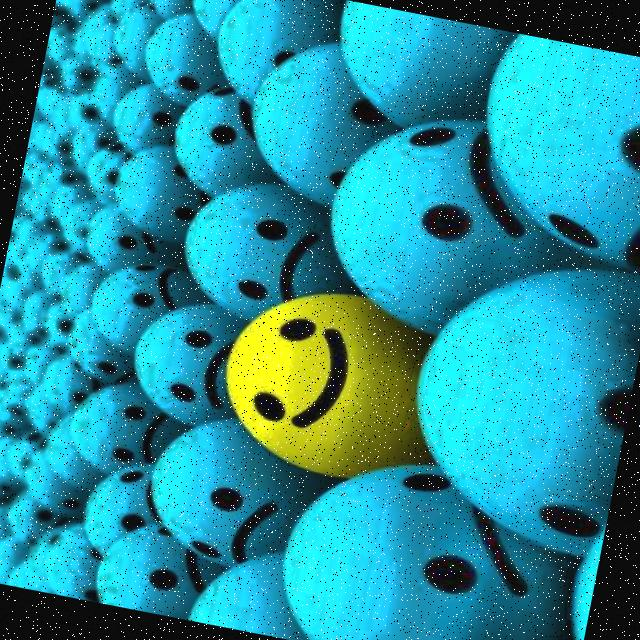happy: (209, 267, 416, 477)
sad: (311, 421, 562, 640), (331, 104, 550, 294), (172, 171, 364, 333), (141, 307, 271, 441), (158, 465, 286, 574), (86, 396, 201, 502), (182, 65, 288, 175), (119, 512, 229, 612), (108, 238, 207, 339), (94, 454, 164, 541), (97, 213, 168, 265)
